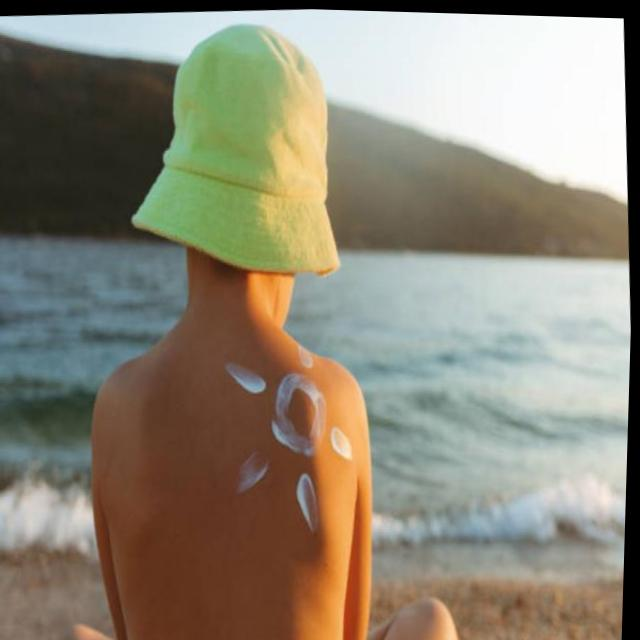no helmet: (106, 3, 373, 365)
